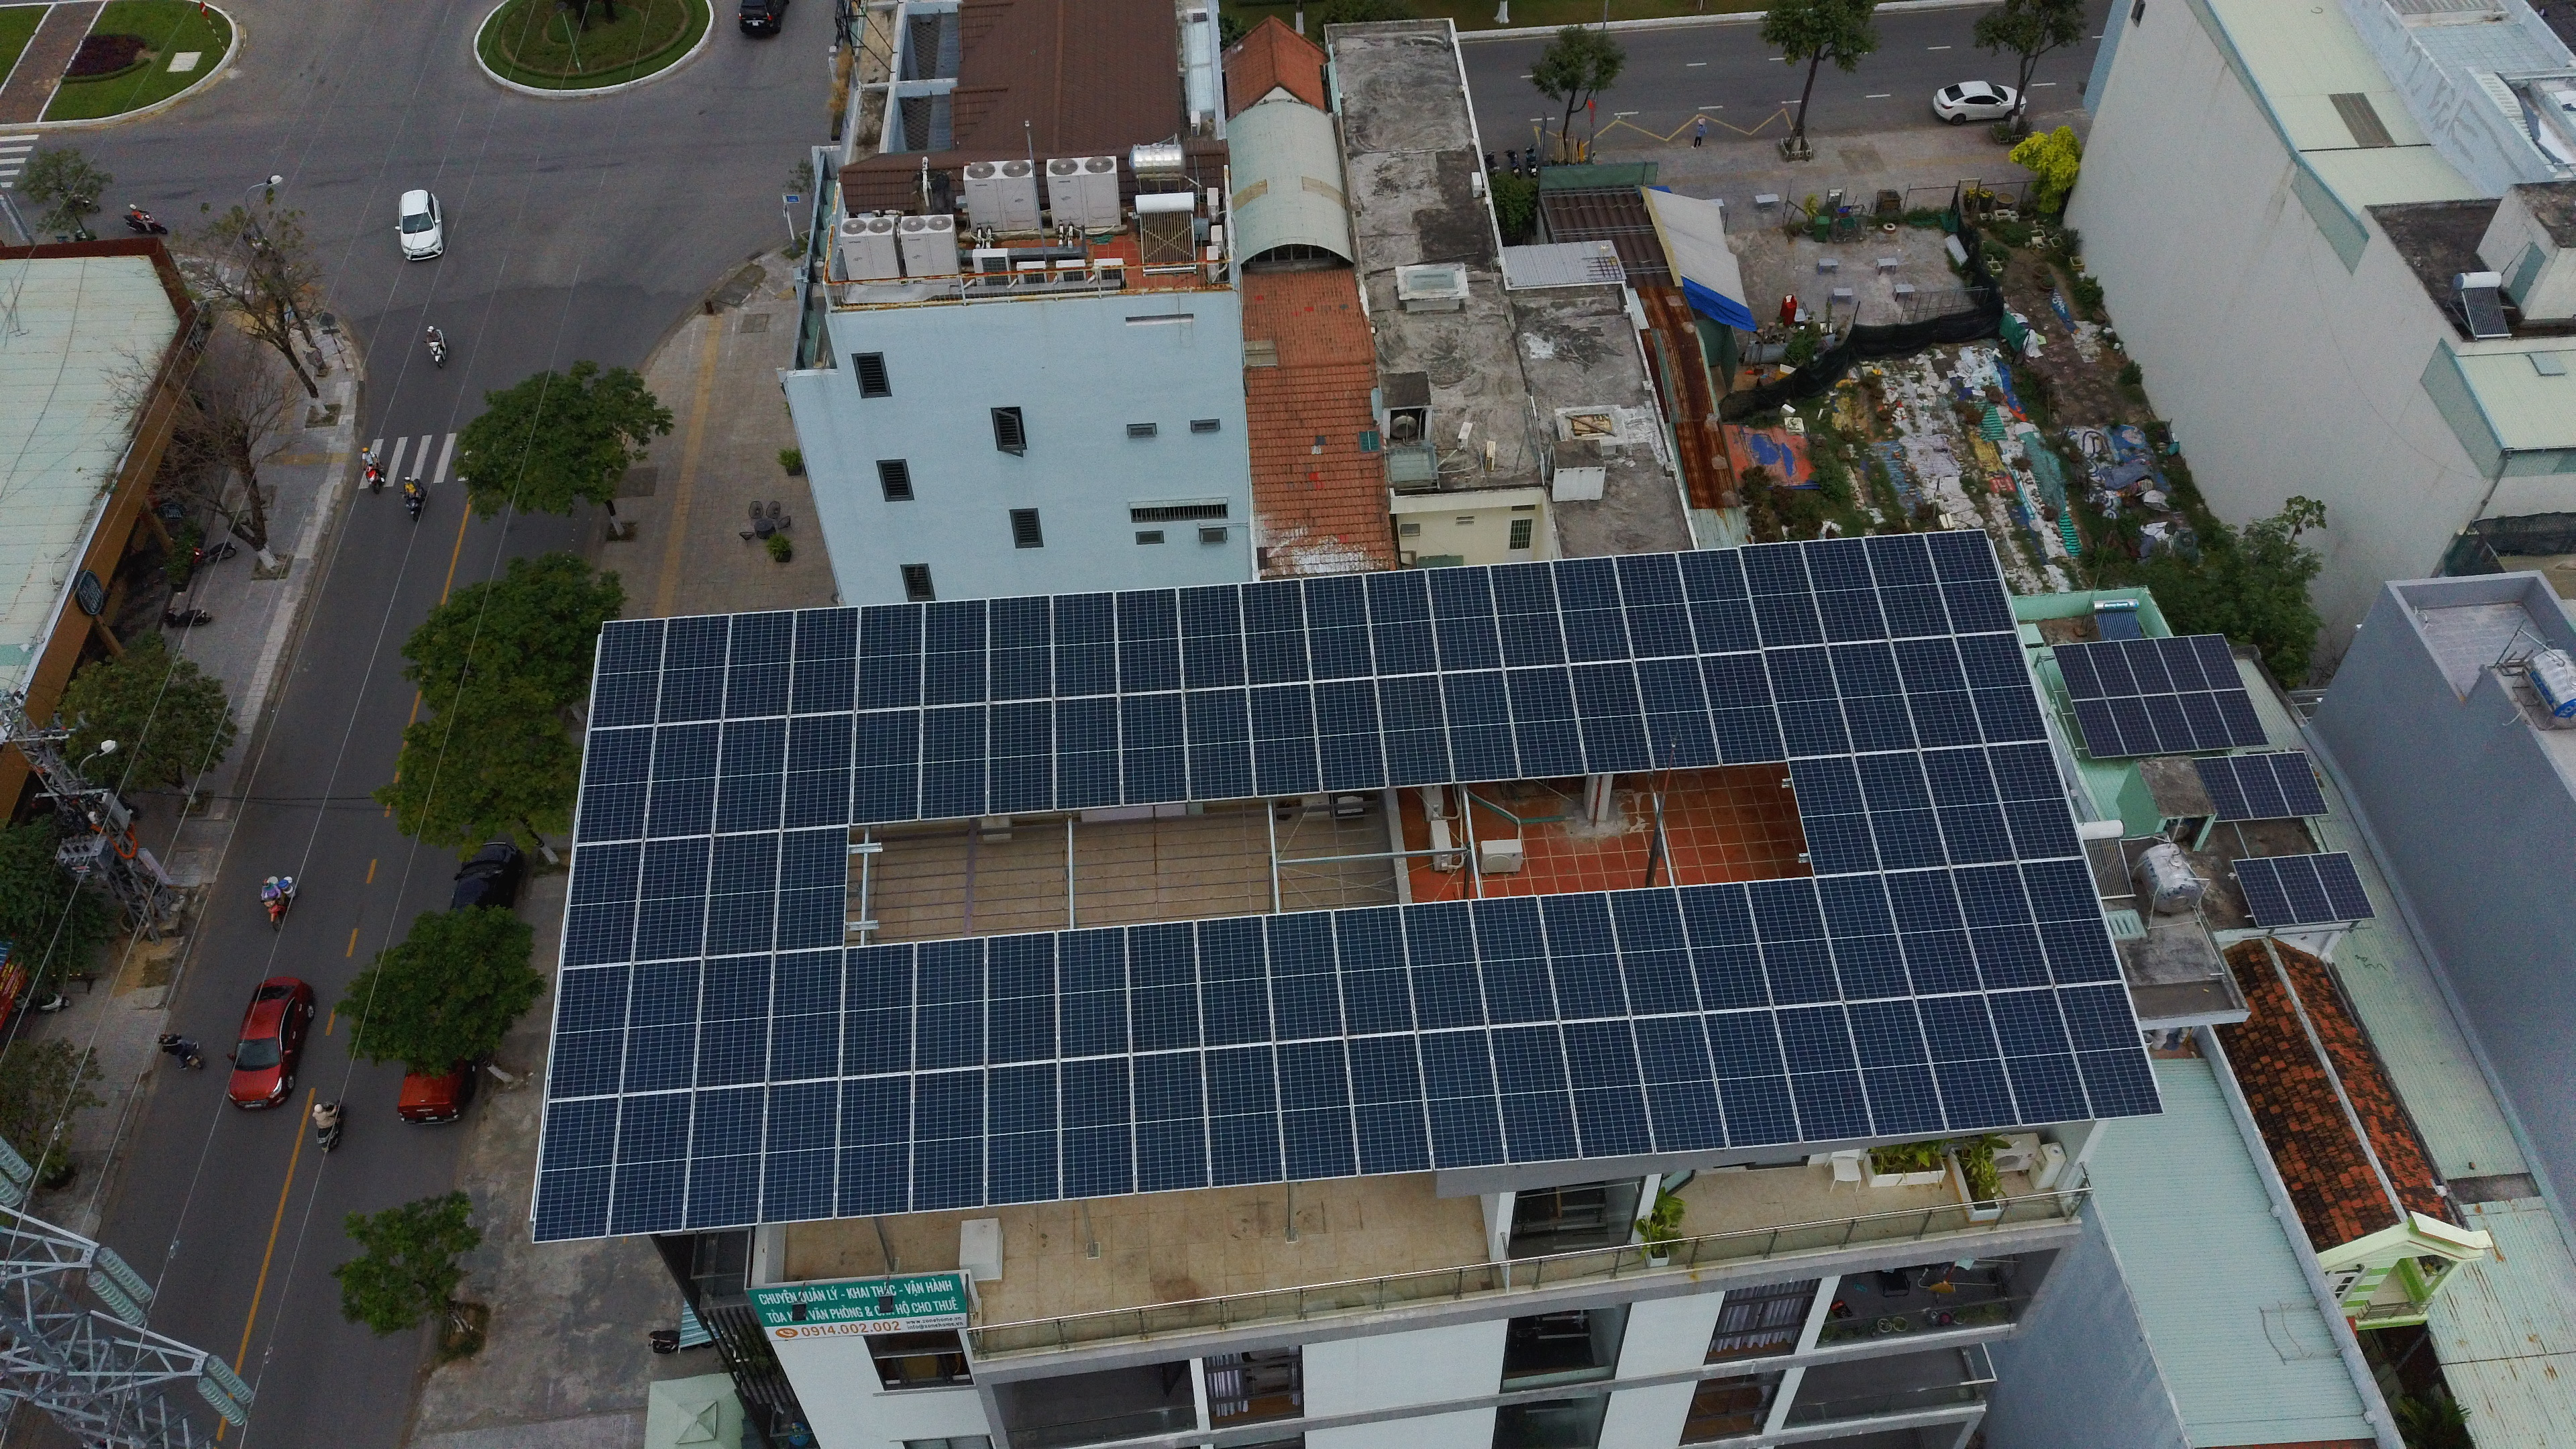solar: (1982, 985, 2093, 1123), (2056, 980, 2167, 1118), (1845, 998, 1950, 1138), (1914, 994, 2019, 1132), (1700, 1007, 1799, 1148), (1775, 1001, 1874, 1143), (1950, 860, 2054, 993), (533, 1093, 625, 1244), (1629, 1014, 1727, 1155), (1345, 1031, 1438, 1178), (1415, 1028, 1509, 1175), (1488, 1021, 1580, 1169), (1881, 867, 1985, 998), (2017, 858, 2121, 989), (1560, 1019, 1652, 1166), (683, 1085, 771, 1237), (1810, 870, 1913, 1001), (605, 1088, 694, 1238), (545, 961, 635, 1102), (909, 1065, 994, 1215), (1677, 881, 1773, 1014), (832, 1072, 916, 1221), (1058, 1053, 1143, 1201), (1746, 878, 1842, 1008), (757, 1076, 840, 1226), (982, 1058, 1065, 1208), (1131, 1049, 1214, 1200), (1276, 1035, 1359, 1185), (1203, 1042, 1286, 1191), (621, 957, 706, 1102), (1787, 754, 1884, 878), (1467, 892, 1557, 1024), (1608, 885, 1698, 1017), (1985, 741, 2082, 863), (1918, 745, 2013, 869), (1536, 892, 1626, 1023), (1950, 628, 2049, 747), (1852, 747, 1948, 869), (1191, 915, 1277, 1049), (1260, 909, 1346, 1044), (1329, 904, 1414, 1040), (630, 833, 717, 966), (701, 830, 787, 962), (771, 824, 858, 957), (1401, 899, 1486, 1033), (840, 941, 922, 1081), (909, 934, 991, 1074), (982, 927, 1063, 1067), (1123, 916, 1205, 1056), (557, 839, 644, 970), (766, 947, 847, 1085), (1893, 633, 1987, 752), (1053, 927, 1132, 1065), (694, 954, 771, 1092), (1240, 678, 1327, 801), (1631, 653, 1721, 771), (1698, 648, 1789, 766), (1826, 639, 1916, 757), (1499, 662, 1587, 782), (1762, 640, 1851, 761), (1923, 527, 2017, 640), (1566, 658, 1654, 777), (1672, 545, 1762, 658), (1737, 538, 1828, 651), (1861, 527, 1951, 640), (573, 724, 658, 844), (640, 720, 725, 840), (775, 711, 860, 830), (1801, 534, 1890, 648), (711, 717, 794, 835), (1371, 669, 1454, 787), (1437, 663, 1520, 782), (849, 704, 927, 826), (1486, 561, 1569, 674), (1552, 554, 1635, 667), (1614, 552, 1697, 665), (1311, 678, 1391, 794), (984, 697, 1060, 819), (1047, 690, 1123, 810), (655, 610, 732, 727), (591, 616, 669, 731), (982, 593, 1060, 708), (916, 701, 991, 821), (1115, 686, 1189, 807), (1180, 679, 1254, 800), (1175, 582, 1251, 699), (720, 609, 796, 724), (786, 605, 862, 720), (853, 602, 929, 717), (916, 600, 993, 715), (1046, 589, 1122, 704), (1109, 584, 1185, 699), (1235, 575, 1311, 690), (1302, 571, 1378, 686), (1362, 566, 1438, 681), (1424, 563, 1500, 678), (2231, 858, 2298, 929), (2311, 849, 2378, 920), (2270, 853, 2335, 924), (2192, 755, 2254, 823), (2227, 752, 2289, 819), (2265, 752, 2327, 819), (2210, 688, 2268, 747), (2051, 642, 2107, 702), (2105, 695, 2162, 755), (2143, 694, 2199, 754), (2070, 697, 2127, 755), (2086, 639, 2141, 699), (2121, 635, 2176, 695), (2189, 630, 2243, 690), (2176, 692, 2231, 752), (2157, 633, 2212, 692)
